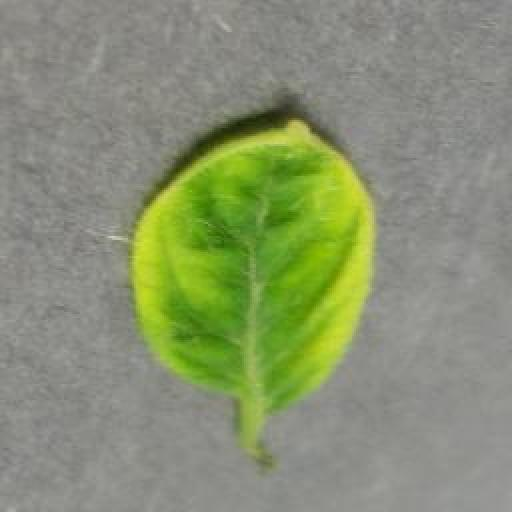disease_tomato: (131, 121, 376, 407)
